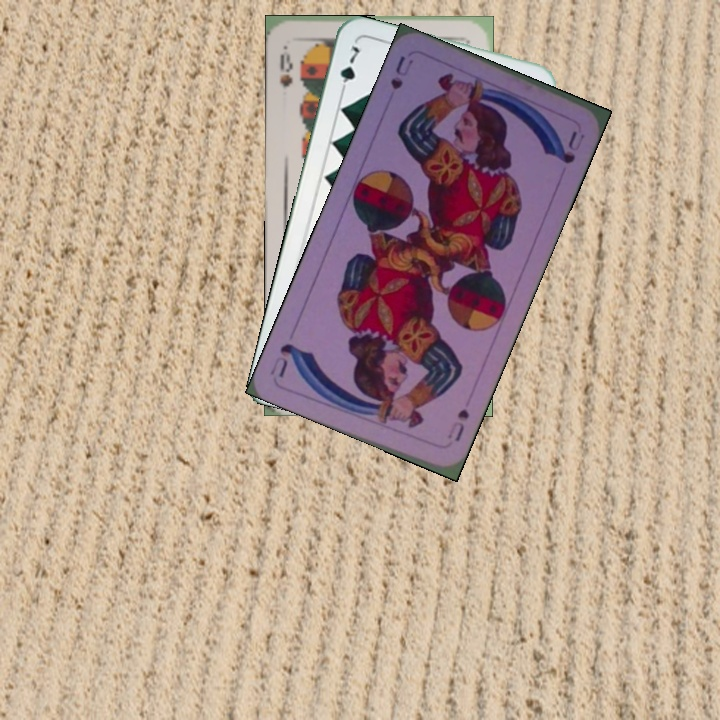G7: (335, 42, 363, 98)
S8: (276, 41, 295, 89)
SU: (386, 51, 416, 93), (443, 404, 472, 444)
